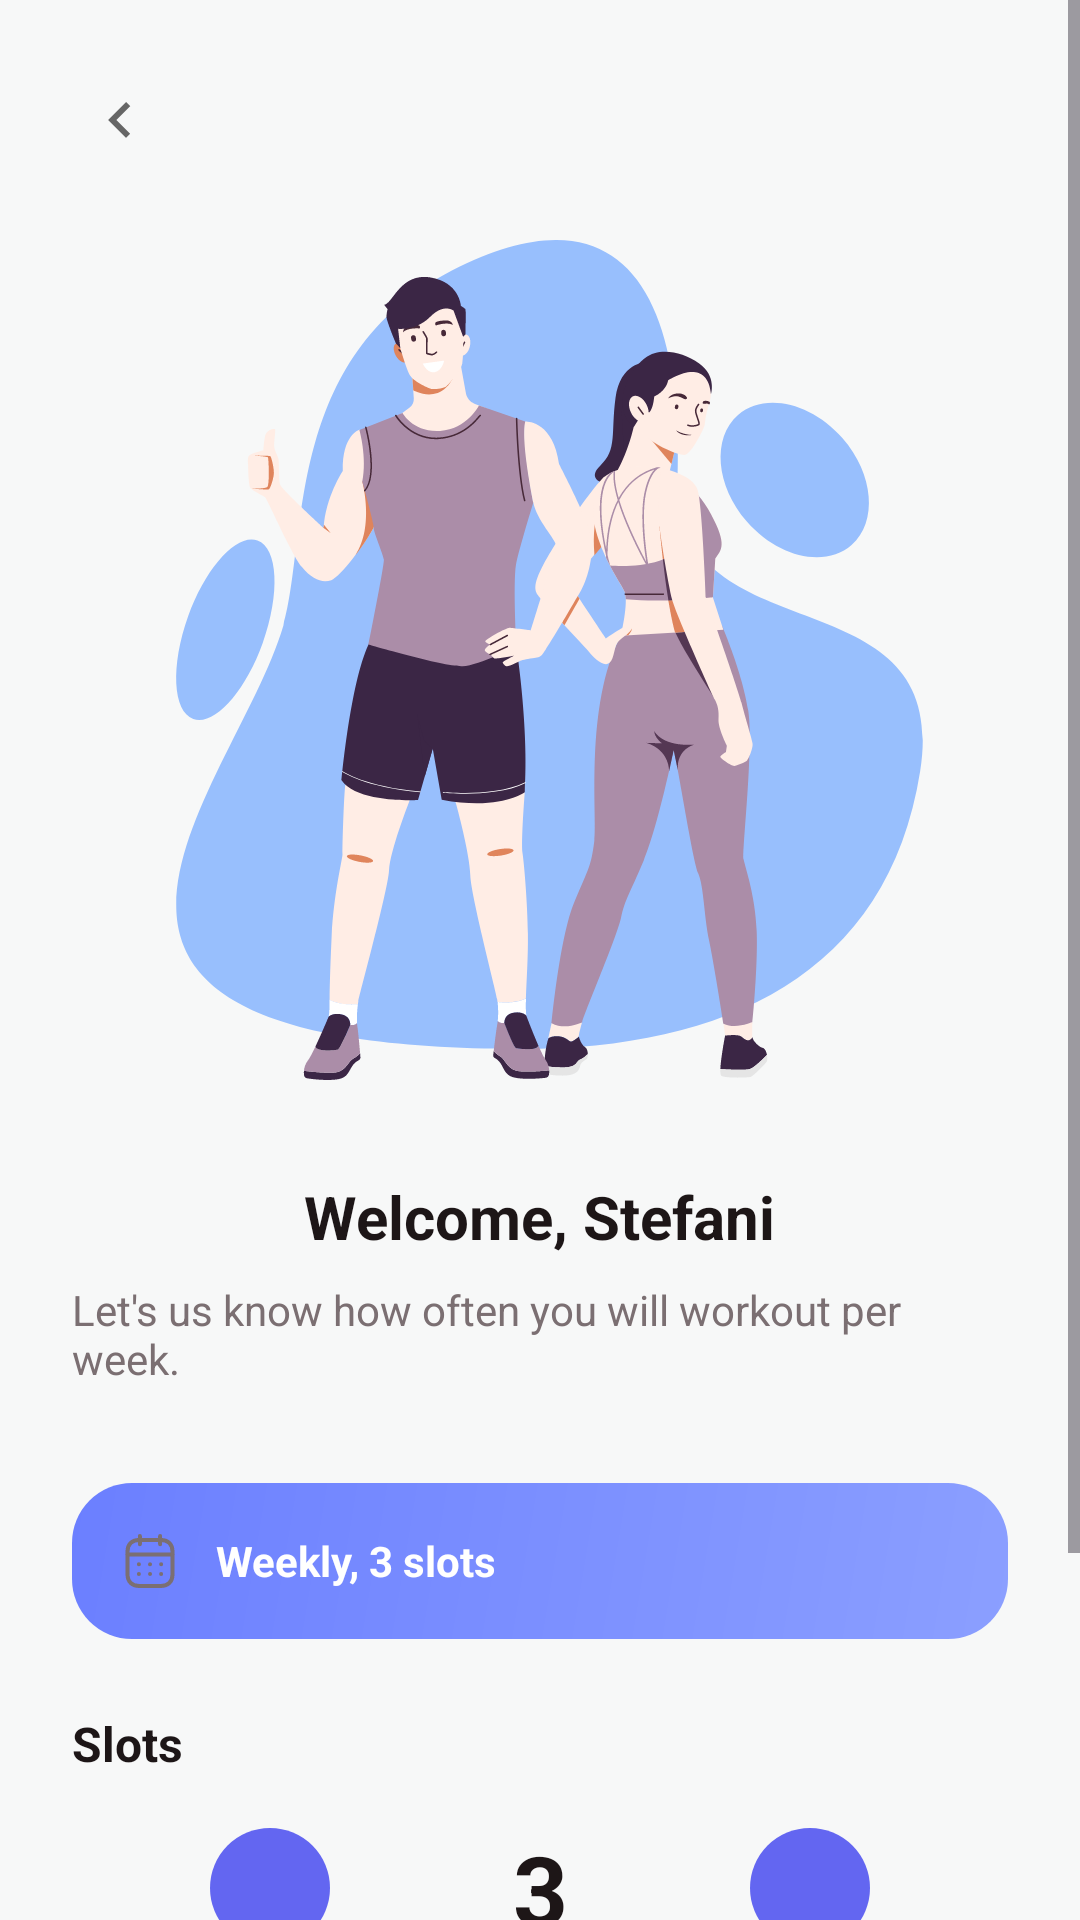

Icons on this 1080w x 1920h Android screen, each with the point to tap as (x,y):
arrow back: (119,120)
calendar: (150,1561)
